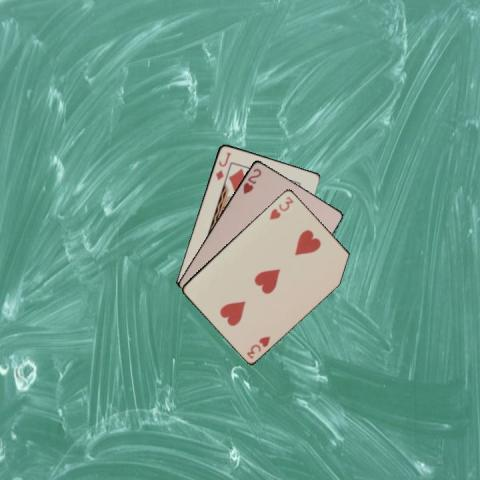2h: (240, 166, 263, 196)
3h: (266, 193, 294, 221), (243, 333, 272, 360)
Jd: (213, 149, 232, 181)
